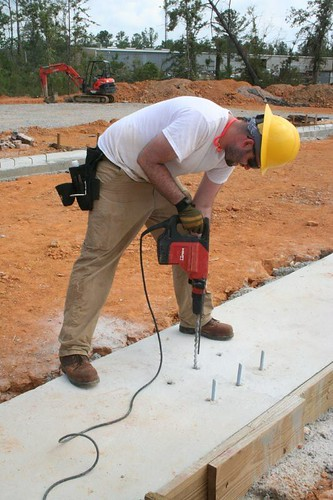person hardhat: (65, 83, 295, 353)
